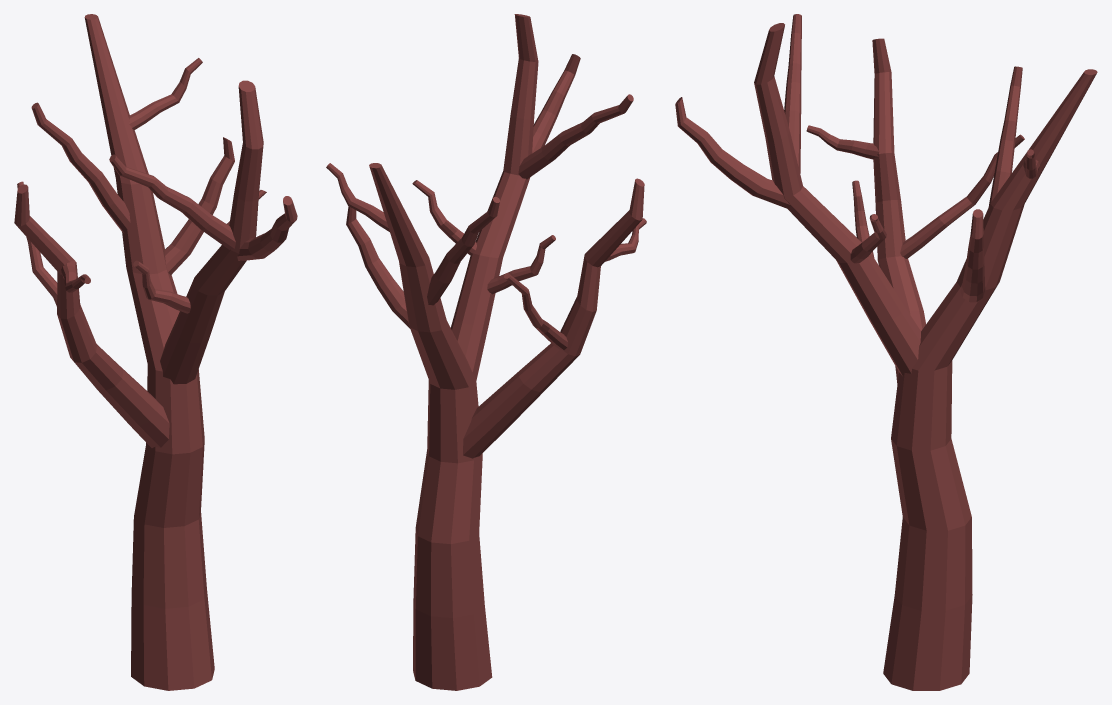
Rendered from Tree_1.glb.
The picture shows the model from 3 angles, left to right: view 1: azimuth 30°, elevation 25°; view 2: azimuth 150°, elevation 25°; view 3: azimuth 270°, elevation 25°; orthographic projection. The views are drawn at different scales.
Visible parts, largest first — view 1: Tree1; view 2: Tree1; view 3: Tree1.
Part boxes in pixels (x1,y1,x2,y2): Tree1: [14, 14, 297, 690]; Tree1: [326, 14, 646, 690]; Tree1: [675, 14, 1097, 690].
Bounding box in the file's own units: 3.57 × 8.28 × 4.89.
